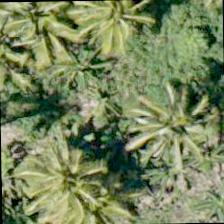Kelapa_Sawit: (28, 146, 121, 223), (0, 1, 81, 71)
